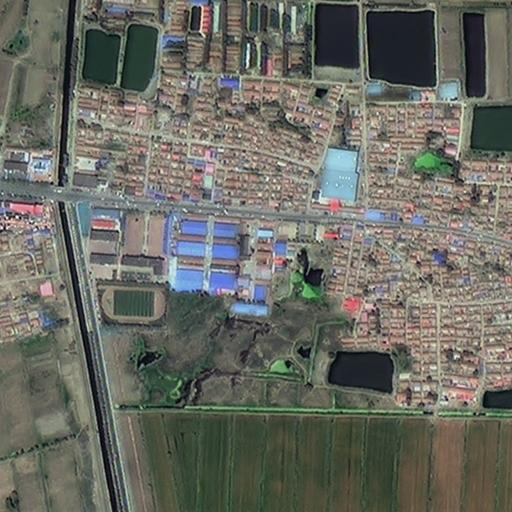school: (74, 203, 169, 329)
